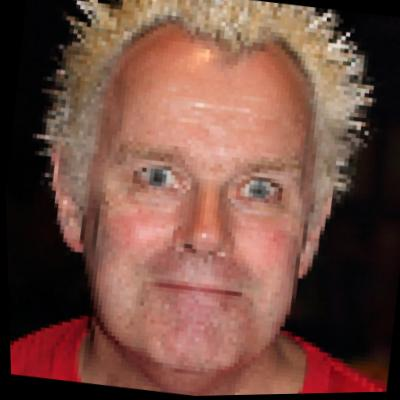surprise: (67, 0, 342, 389)
